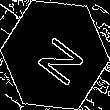N_NW: (25, 24, 85, 86)
